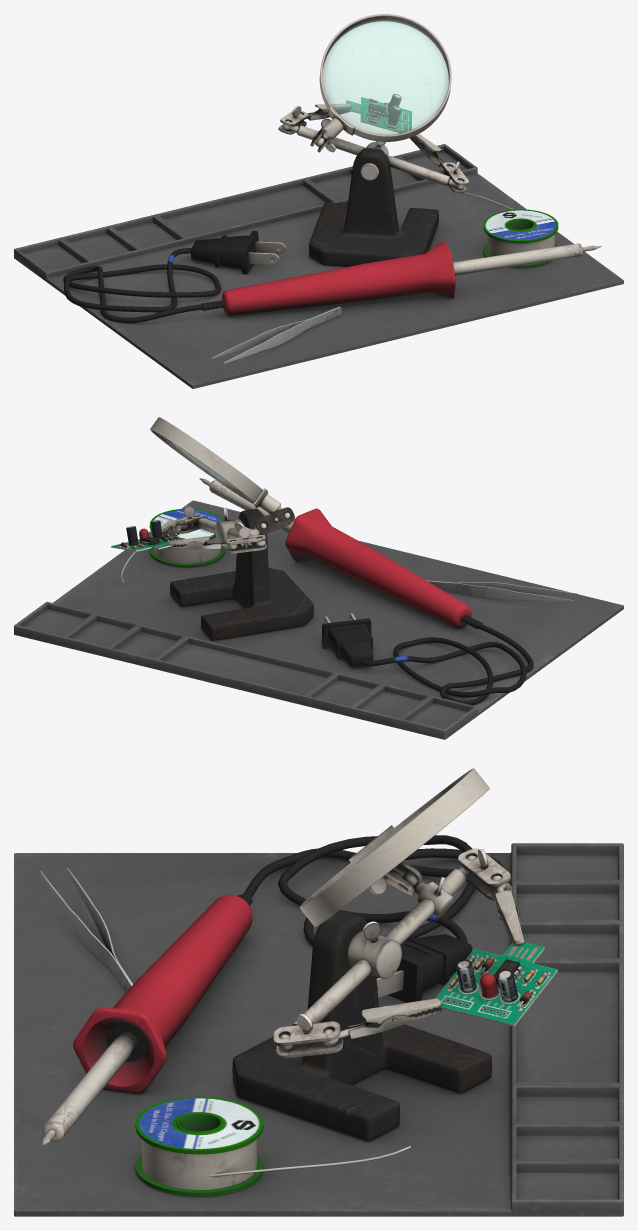
The model's file is solder.glb.
The picture shows the model from 3 angles, top to bottom: view 1: azimuth 30°, elevation 25°; view 2: azimuth 150°, elevation 25°; view 3: azimuth 270°, elevation 25°; orthographic projection. The views are drawn at different scales.
Parts seen in each view (by area): view 1: Mat, Glass, Soldering, Base, WirePlug, IronTin, Plug, GlassClamp, Tweezers, Board, Mainframe, GlassClampHolder; view 2: Mat, Soldering, Base, WirePlug, GlassClamp, IronTin, Plug, Tweezers, Board, ConnectionPiece.001, ConnectionPiece.000; view 3: Mat, Base, Soldering, IronTin, GlassClamp, Board, WirePlug, Plug, Mainframe, Tweezers, ConnectionPiece.003, Connector (+6 smaller).
Part boxes in pixels (box(x1,y1,x2,y2)): Mat: box(14, 144, 623, 388); Glass: box(322, 18, 449, 134); Soldering: box(201, 241, 601, 315); Base: box(309, 148, 438, 266); WirePlug: box(63, 248, 220, 323); IronTin: box(460, 192, 558, 267); Plug: box(190, 231, 286, 274); GlassClamp: box(319, 14, 451, 141); Tweezers: box(211, 306, 341, 363); Board: box(346, 94, 412, 133); Mainframe: box(282, 121, 464, 190); GlassClampHolder: box(315, 106, 354, 147); Mat: box(14, 500, 623, 739); Soldering: box(199, 478, 482, 629); Base: box(170, 508, 313, 640); WirePlug: box(360, 623, 533, 705); GlassClamp: box(150, 417, 262, 503); IronTin: box(121, 508, 224, 583); Plug: box(321, 613, 373, 667); Tweezers: box(426, 580, 577, 601); Board: box(111, 520, 185, 551); ConnectionPiece.001: box(254, 507, 294, 534); ConnectionPiece.000: box(226, 535, 266, 553); Mat: box(14, 843, 623, 1216); Base: box(232, 910, 491, 1141); Soldering: box(41, 894, 252, 1145); IronTin: box(135, 1096, 410, 1196); GlassClamp: box(299, 768, 489, 927); Board: box(435, 941, 557, 1026); WirePlug: box(243, 835, 503, 946); Plug: box(376, 934, 472, 1002); Mainframe: box(277, 855, 476, 1051); Tweezers: box(40, 868, 133, 991); ConnectionPiece.003: box(273, 1021, 343, 1058); Connector: box(346, 931, 401, 978).
Size of the model in its own units: 0.6479 by 0.2827 by 0.4569.
2 materials, 2 textured.
